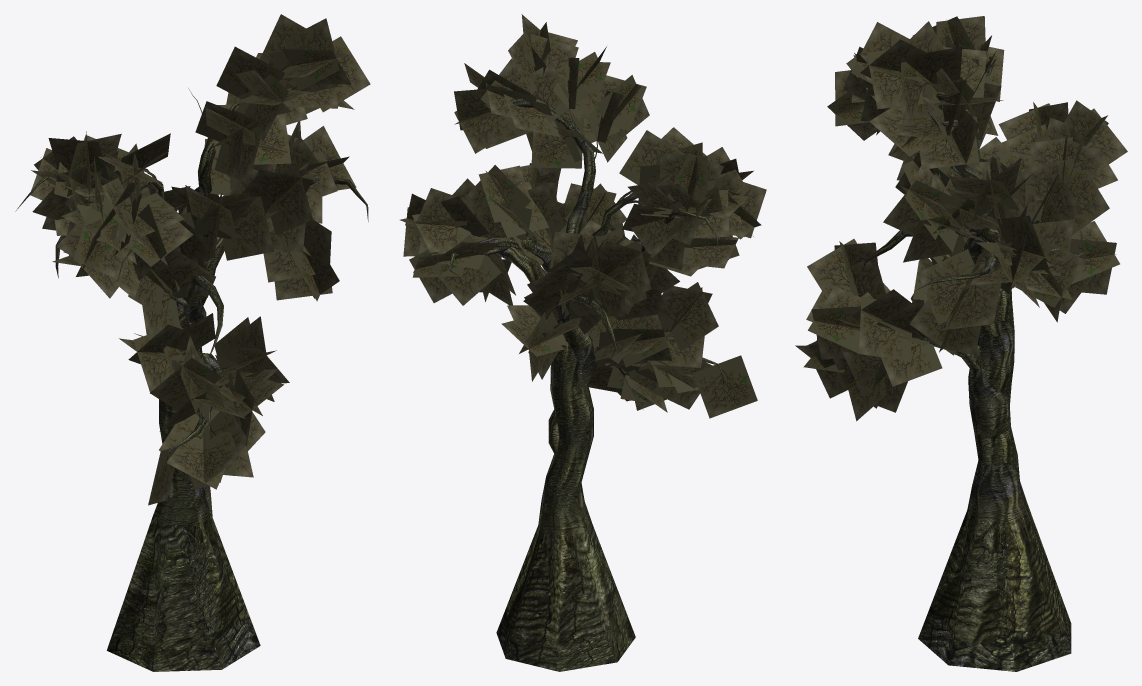
File: vurt_neentree.obj
3 views of the same model, side by side, from view 1: azimuth 30°, elevation 25°; view 2: azimuth 150°, elevation 25°; view 3: azimuth 270°, elevation 25° (orthographic). The views are drawn at different scales.
Visible parts, largest first — view 1: nifid_14-matrix_plant_pmat4-lib, nifid_18-matrix_plant_pmat4_001-lib, nifid_20-matrix_plant_pmat1_001-lib, nifid_1-matrix_plant_pmat2_001-lib, nifid_8-matrix_plant_pmat3-lib; view 2: nifid_14-matrix_plant_pmat4-lib, nifid_18-matrix_plant_pmat4_001-lib, nifid_20-matrix_plant_pmat1_001-lib, nifid_1-matrix_plant_pmat2_001-lib, nifid_8-matrix_plant_pmat3-lib; view 3: nifid_14-matrix_plant_pmat4-lib, nifid_18-matrix_plant_pmat4_001-lib, nifid_20-matrix_plant_pmat1_001-lib, nifid_1-matrix_plant_pmat2_001-lib.
Part boxes in pixels (box(x1,y1,x2,y2)): nifid_14-matrix_plant_pmat4-lib: box(32, 14, 370, 505); nifid_18-matrix_plant_pmat4_001-lib: box(30, 15, 354, 504); nifid_20-matrix_plant_pmat1_001-lib: box(107, 347, 260, 671); nifid_1-matrix_plant_pmat2_001-lib: box(15, 103, 368, 455); nifid_8-matrix_plant_pmat3-lib: box(130, 65, 291, 452); nifid_14-matrix_plant_pmat4-lib: box(400, 14, 766, 418); nifid_18-matrix_plant_pmat4_001-lib: box(400, 16, 766, 417); nifid_20-matrix_plant_pmat1_001-lib: box(496, 341, 635, 671); nifid_1-matrix_plant_pmat2_001-lib: box(449, 98, 753, 456); nifid_8-matrix_plant_pmat3-lib: box(449, 102, 687, 375); nifid_14-matrix_plant_pmat4-lib: box(795, 16, 1127, 412); nifid_18-matrix_plant_pmat4_001-lib: box(797, 16, 1119, 421); nifid_20-matrix_plant_pmat1_001-lib: box(918, 289, 1071, 671); nifid_1-matrix_plant_pmat2_001-lib: box(862, 56, 1087, 440).
Bounding box in the file's own units: 24.64 × 43.84 × 20.45.
